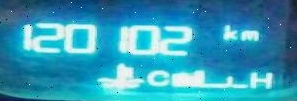0: (63, 22, 97, 53), (128, 23, 159, 55)
1: (19, 21, 31, 51), (118, 24, 126, 55)
2: (160, 24, 192, 55), (33, 20, 63, 52)
X: (247, 70, 273, 89), (145, 70, 169, 86), (222, 23, 237, 39), (239, 29, 257, 41)
